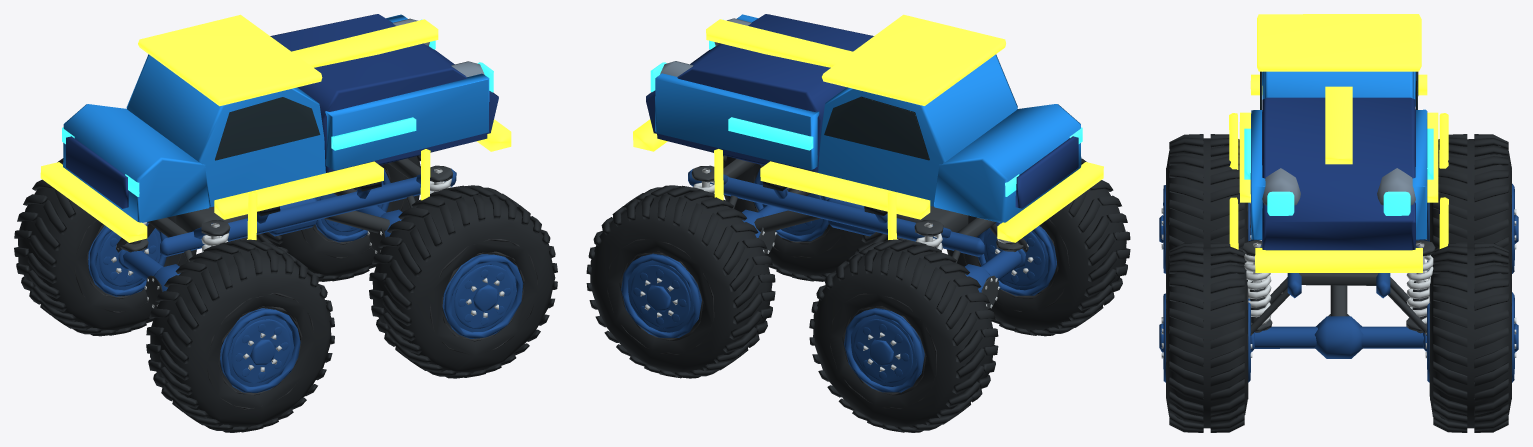
File: HyperFlash_LOD1.fbx
3 views of the same model, side by side, from view 1: azimuth 30°, elevation 25°; view 2: azimuth 150°, elevation 25°; view 3: azimuth 270°, elevation 25° (orthographic).
Visible parts, largest first — view 1: HyperFlash_LOD1_sprung_body_Geometry, HyperFlash_LOD1_FL_Spin_Geometry, HyperFlash_LOD1_RL_Spin_Geometry, HyperFlash_LOD1_FR_Spin_Geometry, HyperFlash_LOD1_RR_Spin_Geometry, HyperFlash_LOD1_FRONT_axle_Geometry, HyperFlash_LOD1_Root_Geometry, HyperFlash_LOD1_REAR_axle_Geometry, HyperFlash_LOD1_FRONT_shock_-1_Geometry, HyperFlash_LOD1_REAR_shock_-1_Geometry; view 2: HyperFlash_LOD1_sprung_body_Geometry, HyperFlash_LOD1_FR_Spin_Geometry, HyperFlash_LOD1_RR_Spin_Geometry, HyperFlash_LOD1_FL_Spin_Geometry, HyperFlash_LOD1_RL_Spin_Geometry, HyperFlash_LOD1_FRONT_axle_Geometry, HyperFlash_LOD1_Root_Geometry, HyperFlash_LOD1_REAR_axle_Geometry, HyperFlash_LOD1_FRONT_shock_1_Geometry, HyperFlash_LOD1_REAR_shock_1_Geometry; view 3: HyperFlash_LOD1_sprung_body_Geometry, HyperFlash_LOD1_RL_Spin_Geometry, HyperFlash_LOD1_RR_Spin_Geometry, HyperFlash_LOD1_FR_Spin_Geometry, HyperFlash_LOD1_FL_Spin_Geometry, HyperFlash_LOD1_REAR_axle_Geometry, HyperFlash_LOD1_Root_Geometry, HyperFlash_LOD1_REAR_shock_-1_Geometry, HyperFlash_LOD1_REAR_shock_1_Geometry.
Part boxes in pixels (x1,y1,x2,y2): HyperFlash_LOD1_sprung_body_Geometry: (40,14,511,256); HyperFlash_LOD1_FL_Spin_Geometry: (146,239,334,432); HyperFlash_LOD1_RL_Spin_Geometry: (369,185,557,378); HyperFlash_LOD1_FR_Spin_Geometry: (14,158,196,336); HyperFlash_LOD1_RR_Spin_Geometry: (256,155,420,281); HyperFlash_LOD1_FRONT_axle_Geometry: (123,250,180,308); HyperFlash_LOD1_Root_Geometry: (116,164,415,262); HyperFlash_LOD1_REAR_axle_Geometry: (356,205,402,254); HyperFlash_LOD1_FRONT_shock_-1_Geometry: (201,220,230,251); HyperFlash_LOD1_REAR_shock_-1_Geometry: (430,165,453,193); HyperFlash_LOD1_sprung_body_Geometry: (633,14,1103,256); HyperFlash_LOD1_FR_Spin_Geometry: (809,239,998,432); HyperFlash_LOD1_RR_Spin_Geometry: (586,185,775,378); HyperFlash_LOD1_FL_Spin_Geometry: (944,158,1130,336); HyperFlash_LOD1_RL_Spin_Geometry: (723,155,887,281); HyperFlash_LOD1_FRONT_axle_Geometry: (965,250,1021,309); HyperFlash_LOD1_Root_Geometry: (712,164,1028,262); HyperFlash_LOD1_REAR_axle_Geometry: (742,205,787,254); HyperFlash_LOD1_FRONT_shock_1_Geometry: (914,220,943,250); HyperFlash_LOD1_REAR_shock_1_Geometry: (691,165,714,193); HyperFlash_LOD1_sprung_body_Geometry: (1229,14,1448,298); HyperFlash_LOD1_RL_Spin_Geometry: (1159,242,1254,432); HyperFlash_LOD1_RR_Spin_Geometry: (1423,242,1518,432); HyperFlash_LOD1_FR_Spin_Geometry: (1423,134,1518,275); HyperFlash_LOD1_FL_Spin_Geometry: (1159,134,1254,274); HyperFlash_LOD1_REAR_axle_Geometry: (1254,314,1423,358); HyperFlash_LOD1_Root_Geometry: (1250,218,1426,335); HyperFlash_LOD1_REAR_shock_-1_Geometry: (1243,240,1272,330); HyperFlash_LOD1_REAR_shock_1_Geometry: (1406,240,1435,331).
Bounding box in the file's own units: 525 × 386 × 414.
